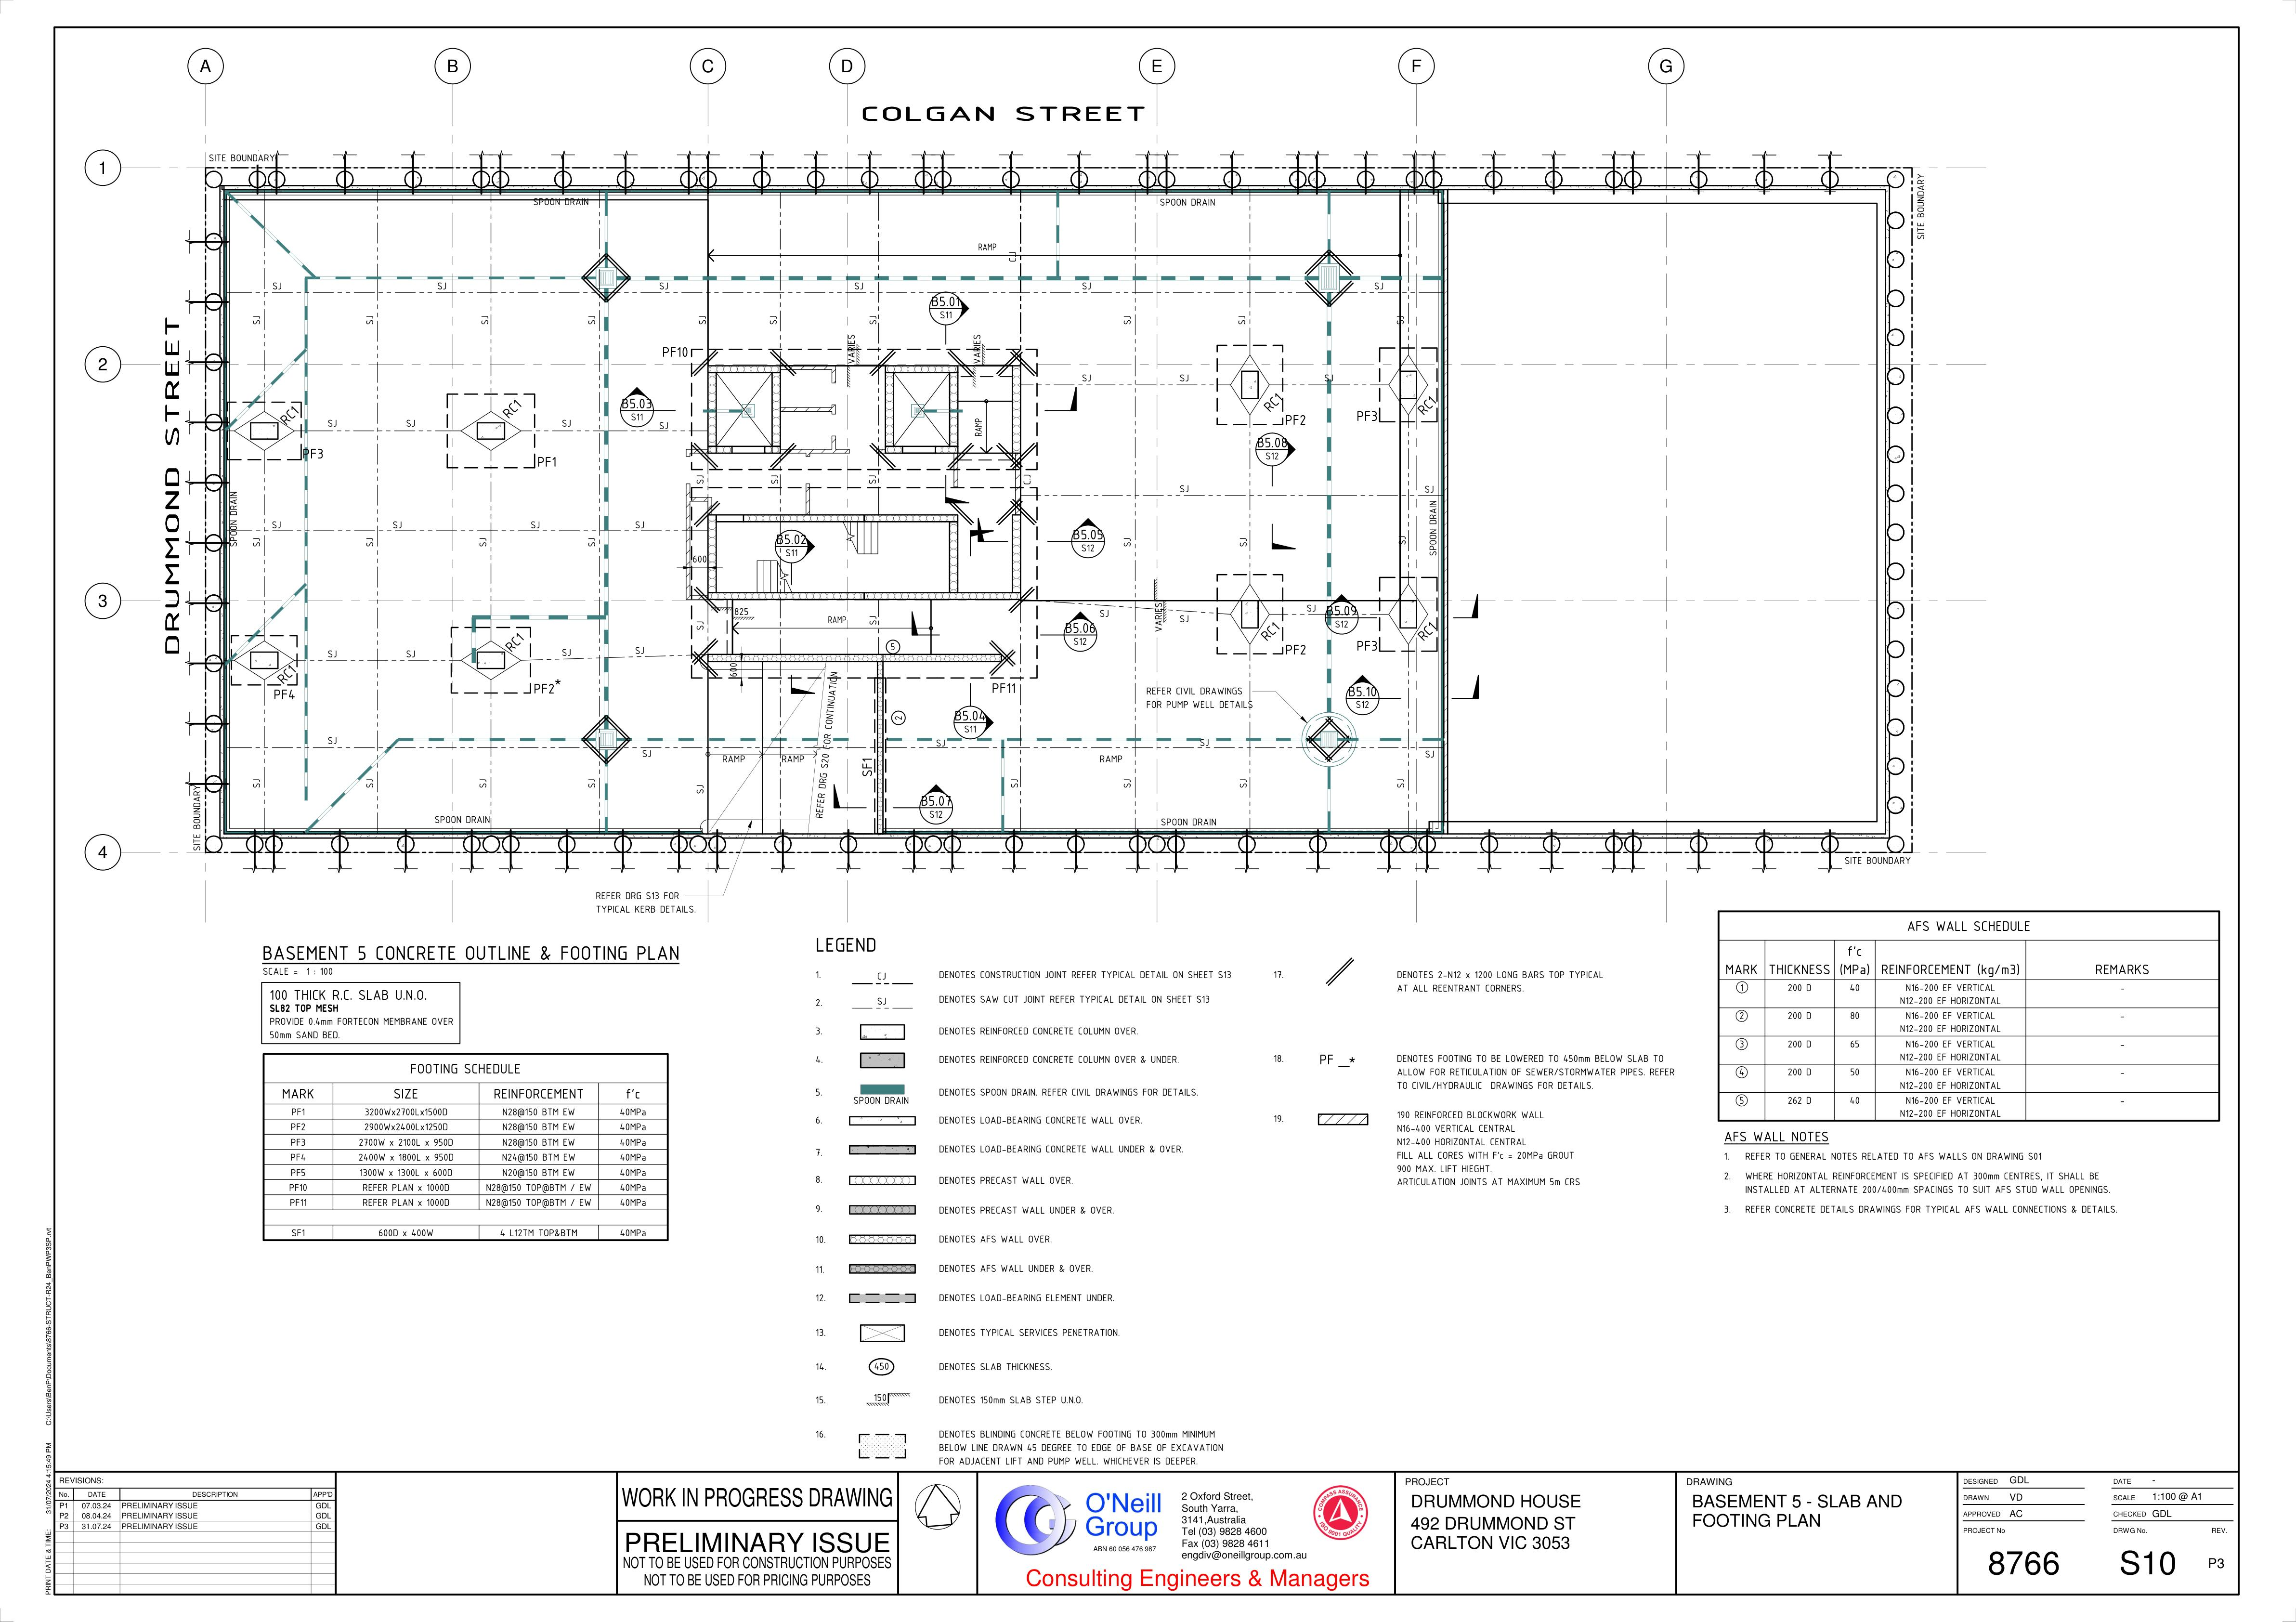PF1: (537, 453, 565, 469)
PF11: (990, 679, 1018, 700)
PF2: (1281, 641, 1309, 660), (1285, 413, 1308, 430)
PF2*: (535, 679, 565, 697)
PF3: (300, 442, 328, 463), (1352, 404, 1381, 423), (1353, 635, 1381, 655)
PF4: (269, 688, 302, 702)
RC1: (1418, 620, 1441, 644), (500, 630, 525, 650), (500, 398, 525, 418), (277, 402, 298, 423), (1264, 391, 1285, 411), (1259, 621, 1280, 641), (1420, 393, 1438, 416), (276, 665, 297, 681)
